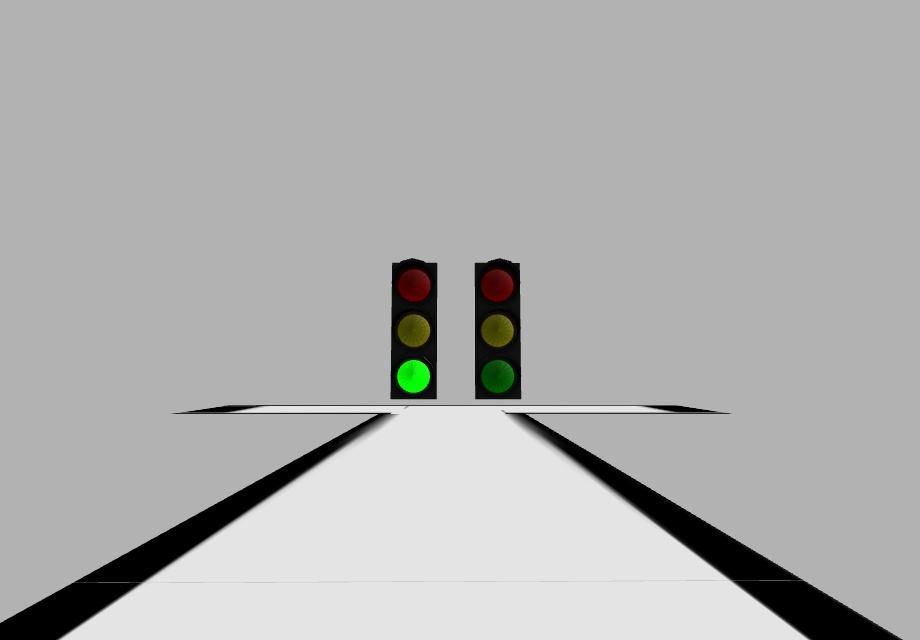green_off: (477, 356, 519, 398)
green_on: (393, 354, 435, 397)
